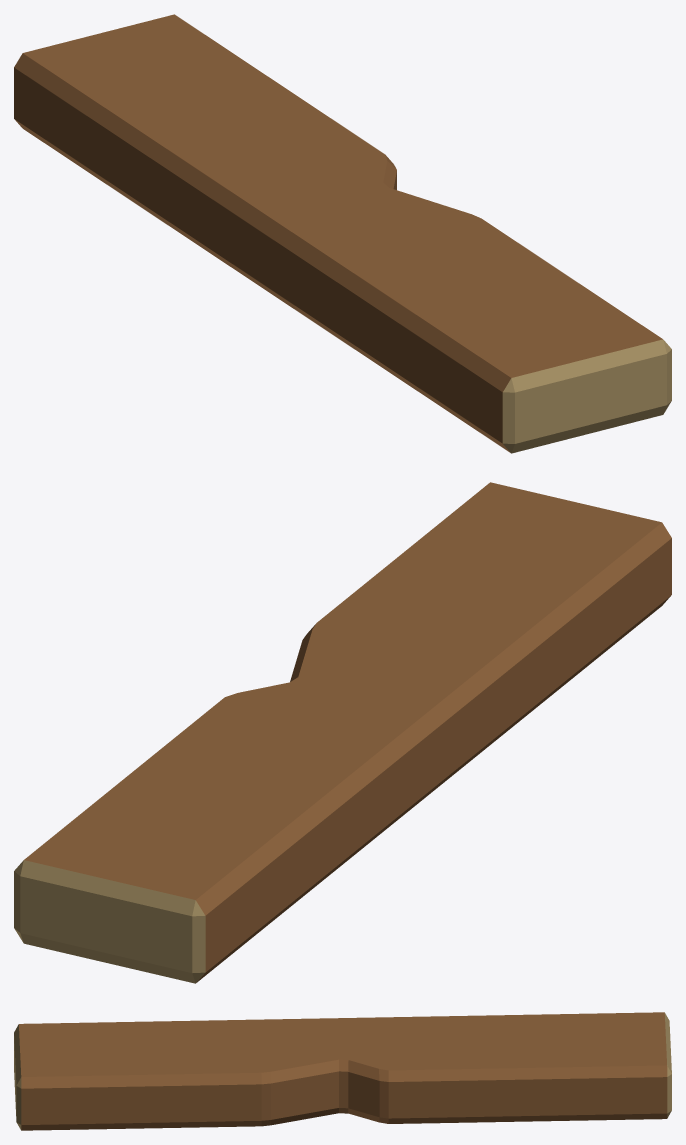
Rendered from Dockmi.glb.
The picture shows the model from 3 angles, top to bottom: view 1: azimuth 30°, elevation 25°; view 2: azimuth 150°, elevation 25°; view 3: azimuth 270°, elevation 25°; orthographic projection. The views are drawn at different scales.
Parts seen in each view (by area): view 1: Environment_Dock; view 2: Environment_Dock; view 3: Environment_Dock.
Boxes of the visible parts, left/top/right/bottom form: Environment_Dock: left=14, top=14, right=671, bottom=453; Environment_Dock: left=14, top=482, right=671, bottom=983; Environment_Dock: left=14, top=1012, right=671, bottom=1130.
Size of the model in its own units: 0.2121 by 0.0748 by 0.8321.
Materials: 1 (1 with a texture image).
